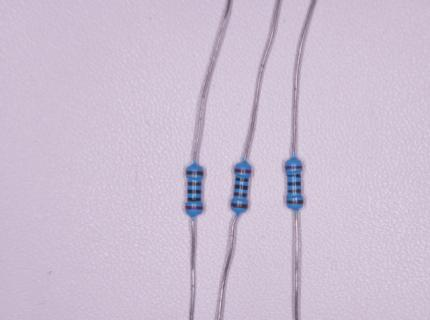Black band: (235, 177, 249, 182), (234, 185, 248, 190), (287, 174, 301, 178), (188, 189, 201, 193), (288, 182, 301, 186), (187, 198, 201, 201)
Brown band: (231, 203, 248, 209), (286, 200, 304, 204), (186, 171, 203, 175), (234, 192, 247, 197), (187, 182, 201, 185), (288, 190, 301, 193)
Red band: (234, 168, 251, 174), (185, 206, 203, 210), (285, 166, 302, 169)
